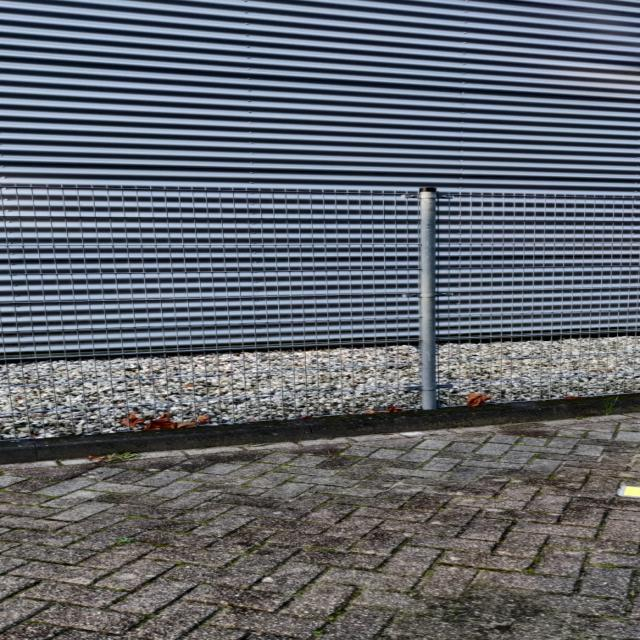fence line: (5, 183, 640, 404)
